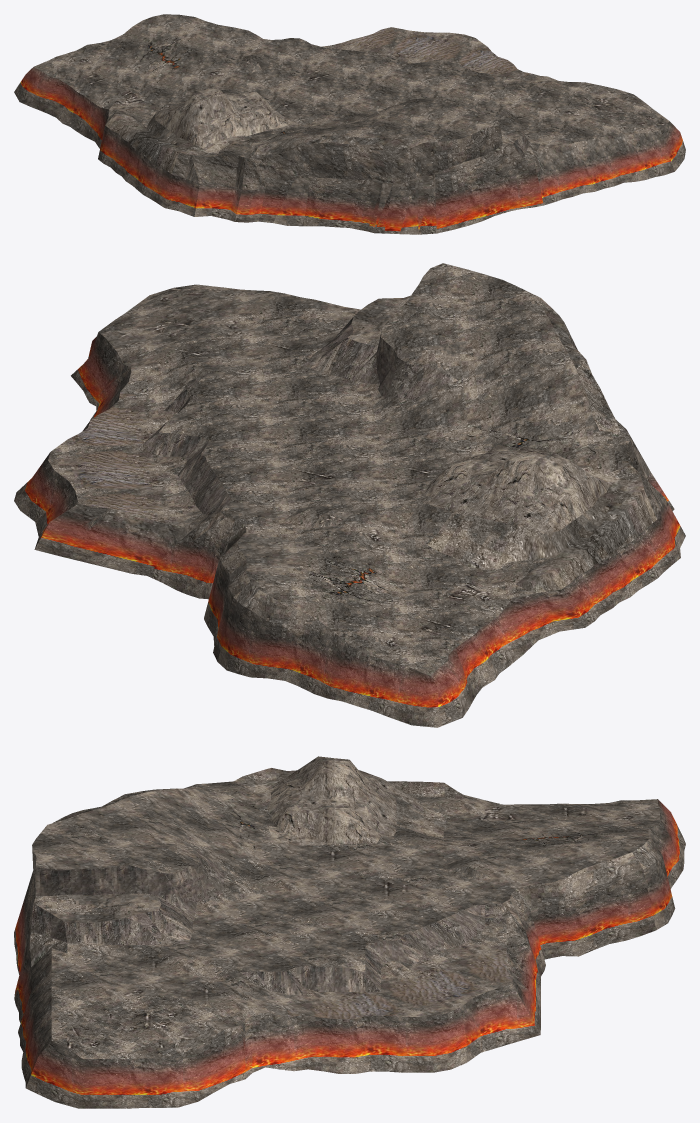
The picture shows the model from 3 angles, top to bottom: view 1: azimuth 30°, elevation 25°; view 2: azimuth 150°, elevation 25°; view 3: azimuth 270°, elevation 25°; orthographic projection. The views are drawn at different scales.
Visible parts, largest first — view 1: Plane01; view 2: Plane01; view 3: Plane01.
Boxes of the visible parts, left/top/right/bottom form: Plane01: left=14, top=14, right=685, bottom=234; Plane01: left=14, top=263, right=685, bottom=727; Plane01: left=14, top=756, right=685, bottom=1108.
Bounding box in the file's own units: 1625 × 300 × 1585.
